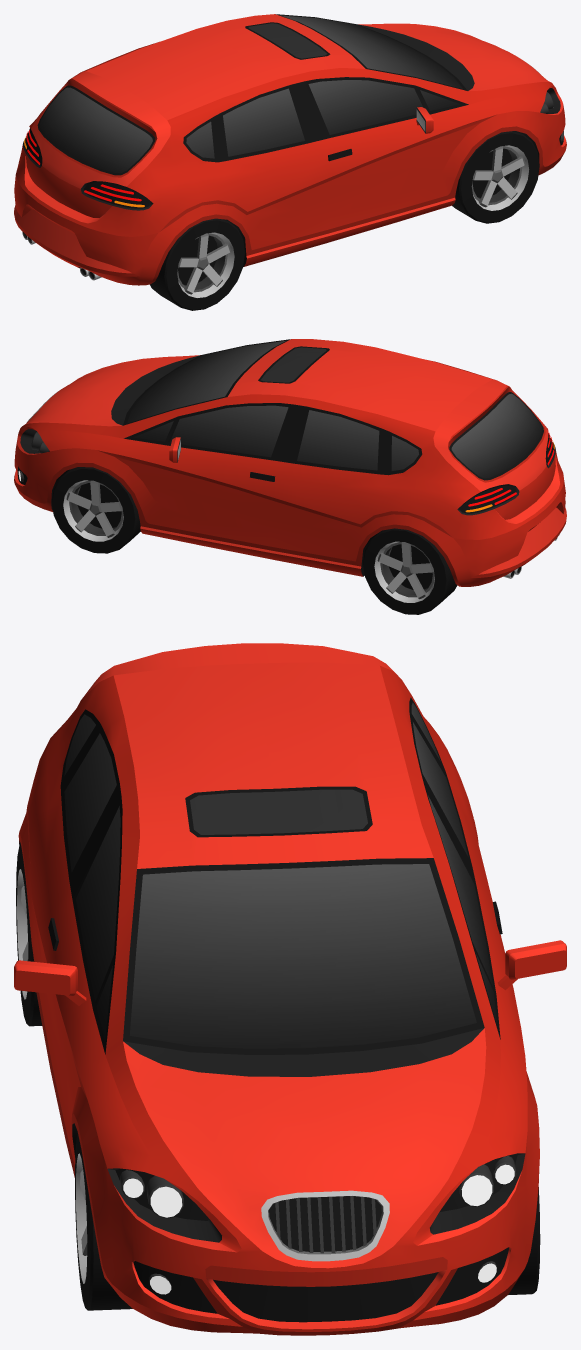
Rendered from Car_170.glb.
3 views of the same model, one above another, from view 1: azimuth 30°, elevation 25°; view 2: azimuth 150°, elevation 25°; view 3: azimuth 270°, elevation 25° (orthographic). The views are drawn at different scales.
Parts seen in each view (by area): view 1: Car_170, wheel_2_Car_170_Wheel_3R, wheel_0_Car_170_Wheel_1R; view 2: Car_170, wheel_3_Car_170_Wheel_4L, wheel_1_Car_170_Wheel_2L; view 3: Car_170, wheel_0_Car_170_Wheel_1R, wheel_2_Car_170_Wheel_3R, wheel_1_Car_170_Wheel_2L.
Part boxes in pixels (x1,y1,x2,y2): Car_170: (14,14,566,285); wheel_2_Car_170_Wheel_3R: (150,218,245,310); wheel_0_Car_170_Wheel_1R: (452,131,539,223); Car_170: (14,339,566,586); wheel_3_Car_170_Wheel_4L: (363,528,457,614); wheel_1_Car_170_Wheel_2L: (51,467,140,553); Car_170: (14,643,566,1335); wheel_0_Car_170_Wheel_1R: (75,1133,132,1310); wheel_2_Car_170_Wheel_3R: (16,844,42,1026); wheel_1_Car_170_Wheel_2L: (508,1187,540,1294).
Size of the model in its own units: 4.37 by 1.51 by 2.14.
2 materials, 2 textured.
